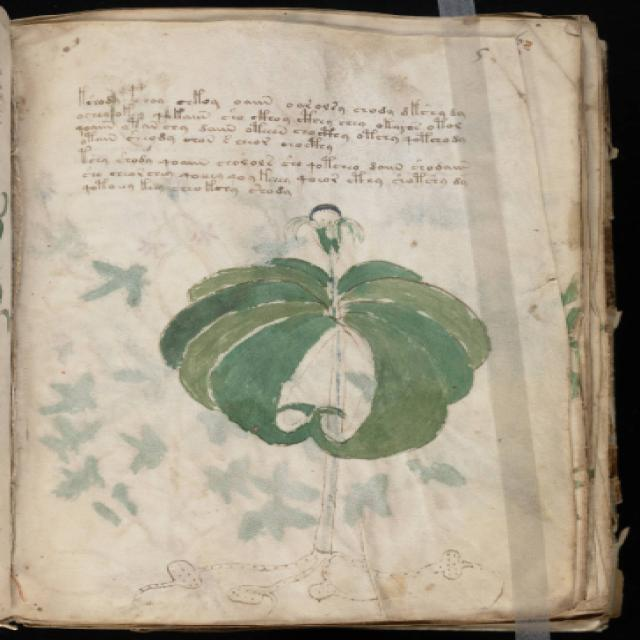plant: (136, 203, 516, 607)
